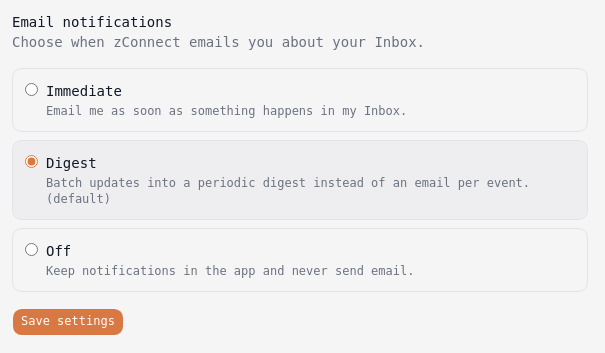
Test: notification settings › shows the error when saving fails
The width and height of the screenshot is (605, 353).
Expected: the radio button labelled "Digest" is shown, x1=25 y1=155 x2=38 y2=168
Click the radio button labelled "Off Keep notifications in the app and never send email." at (32, 250), box x1=25 y1=243 x2=38 y2=256
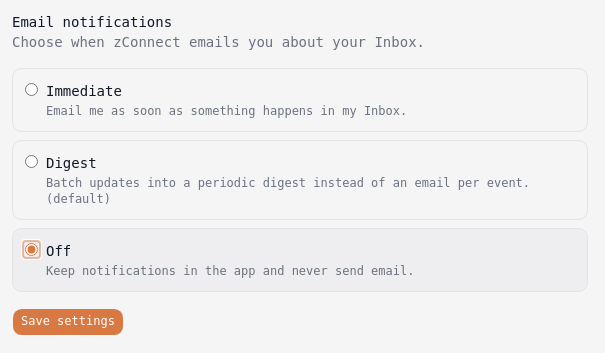
Click the button "Save settings" at (68, 322), box x1=12 y1=308 x2=124 y2=336
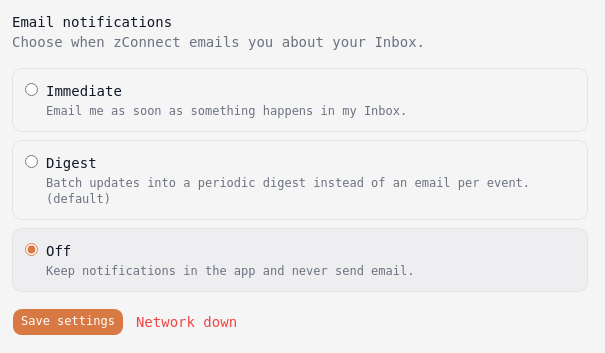
Expected: the message reads "Network down", x1=136 y1=314 x2=237 y2=330
